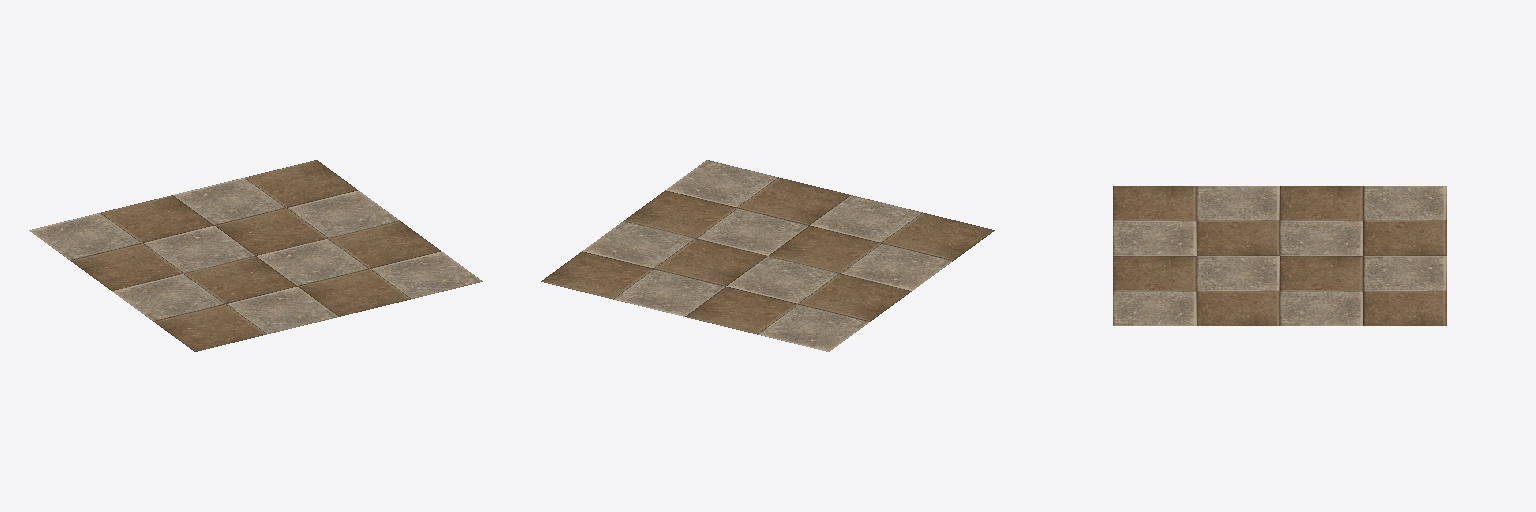
3 views of the same model, side by side, from view 1: azimuth 30°, elevation 25°; view 2: azimuth 150°, elevation 25°; view 3: azimuth 270°, elevation 25° (orthographic).
Parts seen in each view (by area): view 1: Plane; view 2: Plane; view 3: Plane.
Part boxes in pixels (bbox=[...]): Plane: bbox=[29, 160, 482, 351]; Plane: bbox=[541, 160, 994, 351]; Plane: bbox=[1113, 186, 1446, 325].
Bounding box in the file's own units: 2 × 0 × 2.
1 materials, 1 textured.